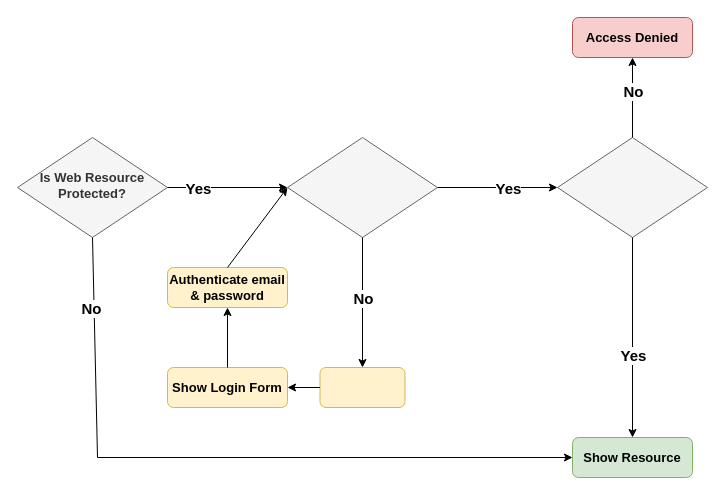
The diagram is 725 pixels wide and 495 high, and some of its shapes have lost their labels. The shapes that lost their labels are listed below. From the top down, each one's box as (x1, y1, x2, y2) in pixels, then its label:
(286, 136, 438, 238): Is user authenticated?
(556, 136, 708, 238): Is user authorized?
(319, 366, 405, 408): Make user login
